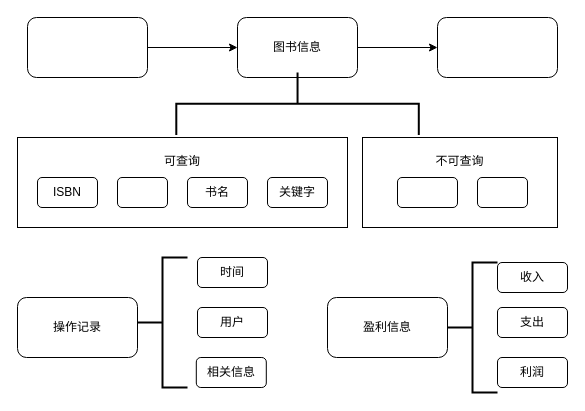
The diagram is 585 pixels wide and 411 high, and some of its shapes have lost their labels. Each missing label, with the centre of its shape:
作者: [142,192]
单价: [427,192]
库存量: [502,192]
销售人员录入: [87,47]
顾客查询: [497,47]
